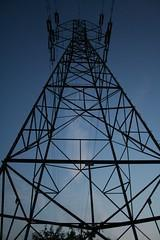power_tower: (7, 10, 156, 239)
